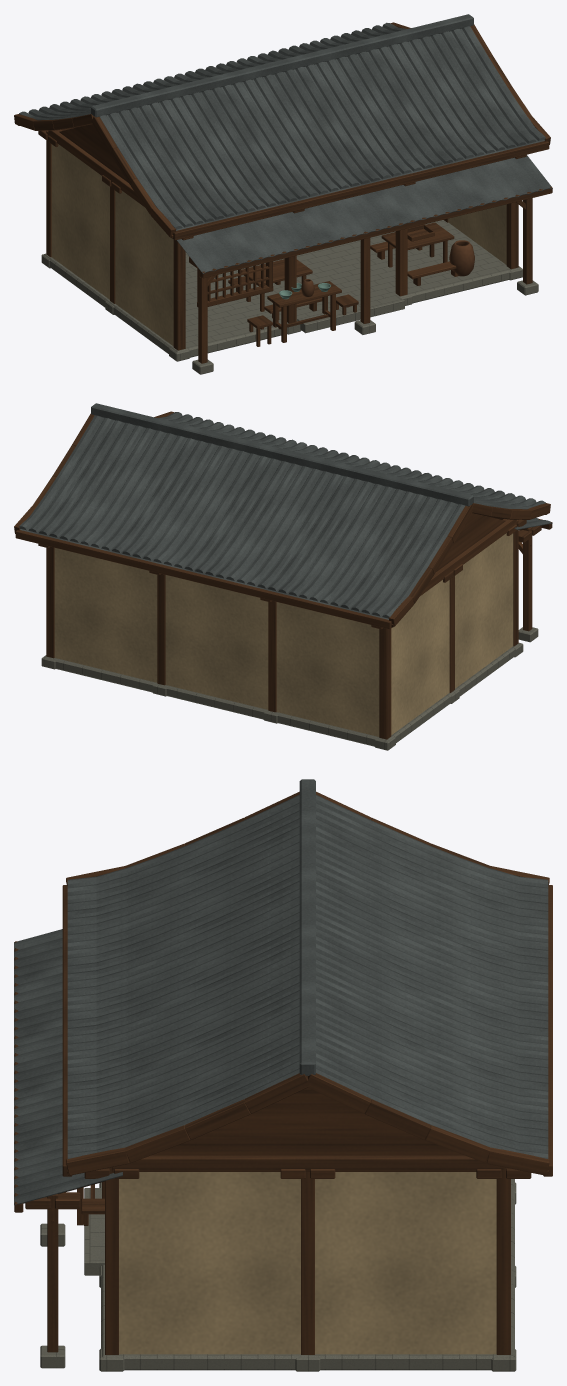
Rendered from tea-frontage.glb.
The picture shows the model from 3 angles, top to bottom: view 1: azimuth 30°, elevation 25°; view 2: azimuth 150°, elevation 25°; view 3: azimuth 270°, elevation 25°; orthographic projection. The views are drawn at different scales.
Visible parts, largest first — view 1: detail_tea_frontage_Tea weathered grey tile, detail_tea_frontage_Tea seasoned timber, detail_tea_frontage_Grey masonry, detail_tea_frontage_Tea warm clay plaster, detail_tea_frontage_Tea hand-thrown clay; view 2: detail_tea_frontage_Tea weathered grey tile, detail_tea_frontage_Tea warm clay plaster, detail_tea_frontage_Tea seasoned timber, detail_tea_frontage_Grey masonry; view 3: detail_tea_frontage_Tea weathered grey tile, detail_tea_frontage_Tea warm clay plaster, detail_tea_frontage_Tea seasoned timber, detail_tea_frontage_Grey masonry.
Boxes of the visible parts, x1,y1,x2,y2 form: detail_tea_frontage_Tea weathered grey tile: (19, 14, 552, 273); detail_tea_frontage_Tea seasoned timber: (14, 22, 552, 363); detail_tea_frontage_Grey masonry: (41, 220, 538, 374); detail_tea_frontage_Tea warm clay plaster: (51, 144, 506, 345); detail_tea_frontage_Tea hand-thrown clay: (301, 240, 474, 296); detail_tea_frontage_Tea weathered grey tile: (19, 403, 552, 619); detail_tea_frontage_Tea warm clay plaster: (54, 533, 513, 736); detail_tea_frontage_Tea seasoned timber: (14, 411, 552, 739); detail_tea_frontage_Grey masonry: (41, 627, 538, 750); detail_tea_frontage_Tea weathered grey tile: (14, 779, 548, 1205); detail_tea_frontage_Tea warm clay plaster: (119, 1172, 496, 1354); detail_tea_frontage_Tea seasoned timber: (14, 791, 552, 1354); detail_tea_frontage_Grey masonry: (40, 1179, 516, 1371).
Bounding box in the file's own units: 9.13 × 4.79 × 7.29.
Materials: 6 (6 with a texture image).
